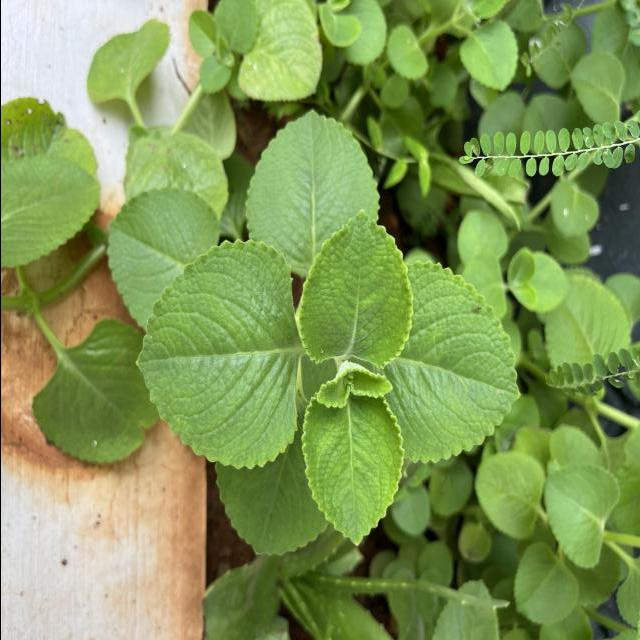Plectranthus barbatus: (133, 236, 296, 472), (404, 258, 522, 464), (295, 206, 414, 370), (29, 318, 157, 466), (300, 384, 406, 548), (104, 185, 221, 331), (242, 107, 380, 222), (542, 462, 620, 569), (472, 450, 544, 540), (511, 540, 579, 626), (458, 19, 518, 94)
